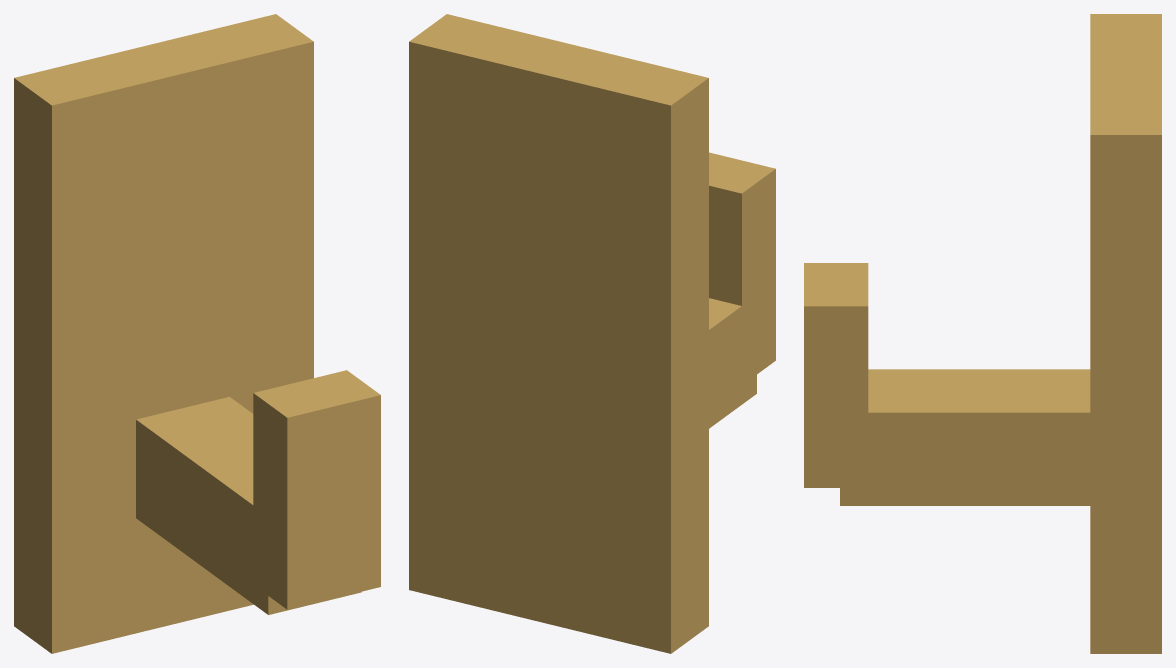
The model's file is wall-hook.glb.
The picture shows the model from 3 angles, left to right: view 1: azimuth 30°, elevation 25°; view 2: azimuth 150°, elevation 25°; view 3: azimuth 270°, elevation 25°; orthographic projection. The views are drawn at different scales.
Parts seen in each view (by area): view 1: wall-hook; view 2: wall-hook; view 3: wall-hook.
Boxes of the visible parts, box(x1,y1,x2,y2) form: wall-hook: box(14, 14, 380, 653); wall-hook: box(409, 14, 775, 653); wall-hook: box(804, 14, 1161, 653).
Bounding box in the file's own units: 4 × 8 × 5.
